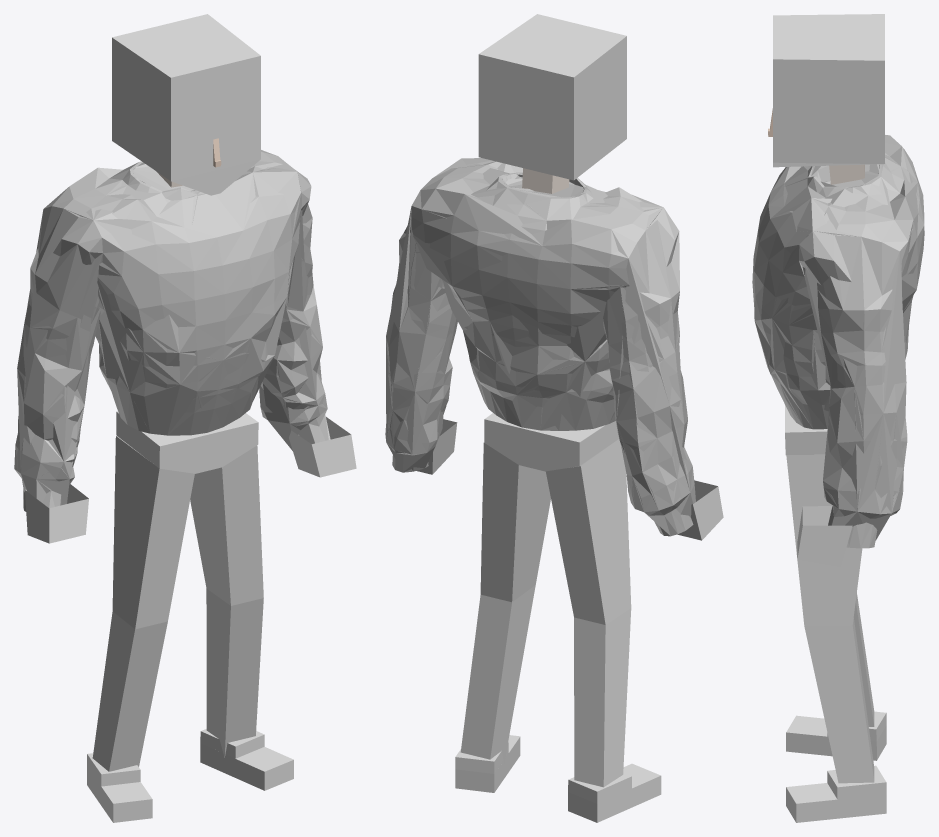
Rendered from character_dressed_complete.fbx.
The picture shows the model from 3 angles, left to right: view 1: azimuth 30°, elevation 25°; view 2: azimuth 150°, elevation 25°; view 3: azimuth 270°, elevation 25°; orthographic projection.
Parts seen in each view (by area): view 1: Sweater_1, cabeca, coxa direita, coxa esquerda, canela direita, canela esquerda, pelve, pe esquerdo, pe direito, antebraco direito, antebraco esquerdo; view 2: Sweater_1, cabeca, coxa direita, canela direita, coxa esquerda, canela esquerda, pelve, pe direito, pe esquerdo, antebraco direito, antebraco esquerdo, pecoco; view 3: Sweater_1, cabeca, canela esquerda, coxa esquerda, pe esquerdo, antebraco esquerdo, pe direito, pelve, canela direita, pecoco.
Boxes of the visible parts, bbox=[...] form: Sweater_1: bbox=[14, 150, 328, 511]; cabeca: bbox=[112, 14, 260, 195]; coxa direita: bbox=[112, 436, 194, 629]; coxa esquerda: bbox=[190, 445, 263, 605]; canela direita: bbox=[92, 612, 167, 771]; canela esquerda: bbox=[206, 588, 263, 757]; pelve: bbox=[116, 411, 258, 473]; pe esquerdo: bbox=[200, 729, 293, 790]; pe direito: bbox=[87, 753, 152, 822]; antebraco direito: bbox=[25, 484, 88, 543]; antebraco esquerdo: bbox=[289, 417, 356, 477]; Sweater_1: bbox=[385, 158, 695, 536]; cabeca: bbox=[478, 14, 626, 180]; coxa direita: bbox=[545, 439, 631, 624]; canela direita: bbox=[574, 608, 631, 787]; coxa esquerda: bbox=[480, 442, 550, 602]; canela esquerda: bbox=[460, 585, 535, 763]; pelve: bbox=[484, 413, 619, 471]; pe direito: bbox=[568, 763, 661, 822]; pe esquerdo: bbox=[455, 735, 520, 792]; antebraco direito: bbox=[677, 480, 723, 540]; antebraco esquerdo: bbox=[416, 419, 457, 474]; pecoco: bbox=[522, 168, 569, 193]; Sweater_1: bbox=[752, 135, 924, 548]; cabeca: bbox=[773, 14, 884, 167]; canela esquerda: bbox=[804, 618, 874, 783]; coxa esquerda: bbox=[786, 454, 862, 625]; pe esquerdo: bbox=[786, 765, 886, 822]; antebraco esquerdo: bbox=[797, 506, 852, 566]; pe direito: bbox=[786, 711, 886, 760]; pelve: bbox=[785, 405, 827, 455]; canela direita: bbox=[853, 593, 874, 726]; pecoco: bbox=[829, 164, 864, 184].
Bounding box in the file's own units: 0.7946 × 1.83 × 0.3858.
